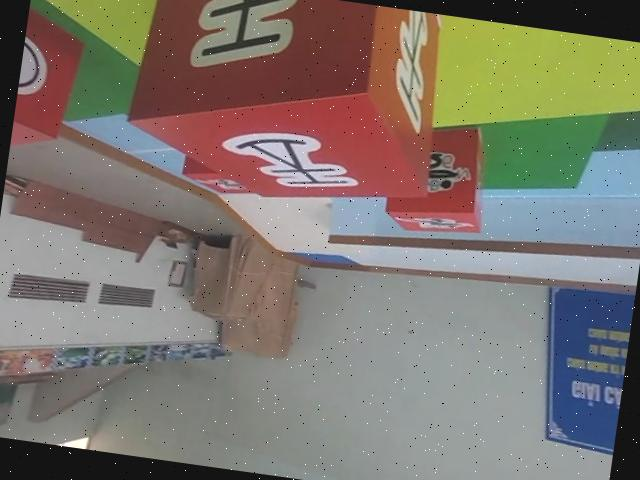R1: (378, 111, 494, 246)
R2 Real: (112, 0, 457, 223), (11, 0, 96, 149)
